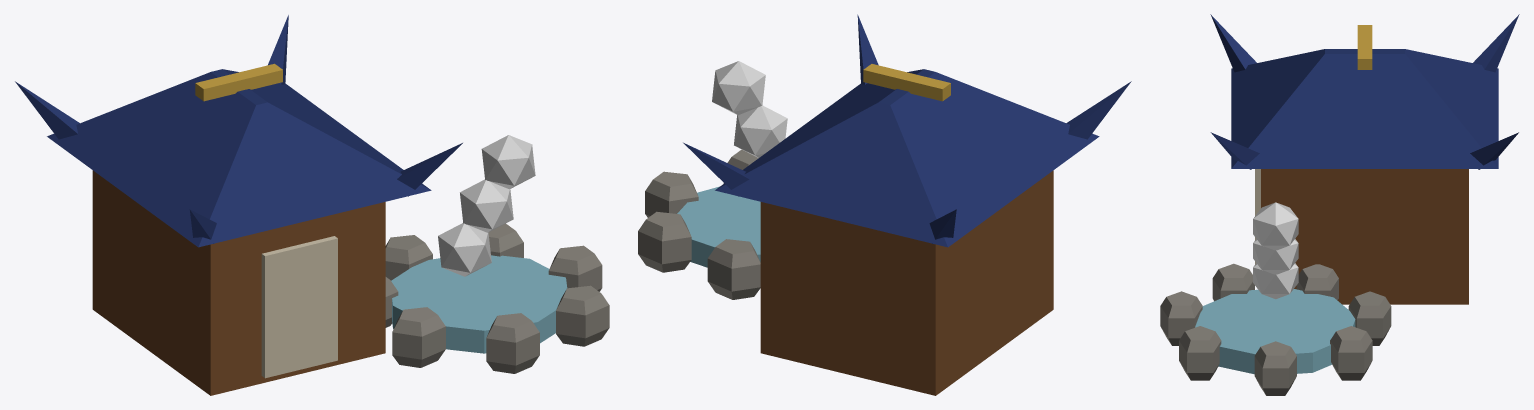
Rendered from macaque_house_c.glb.
3 views of the same model, side by side, from view 1: azimuth 30°, elevation 25°; view 2: azimuth 150°, elevation 25°; view 3: azimuth 270°, elevation 25° (orthographic). The views are drawn at different scales.
Parts seen in each view (by area): view 1: macaque_house_c; view 2: macaque_house_c; view 3: macaque_house_c.
Boxes of the visible parts, x1,y1,x2,y2 form: macaque_house_c: (15,15,609,395); macaque_house_c: (638,14,1131,395); macaque_house_c: (1160,14,1519,395).
Bounding box in the file's own units: 3.03 × 1.67 × 2.42.
